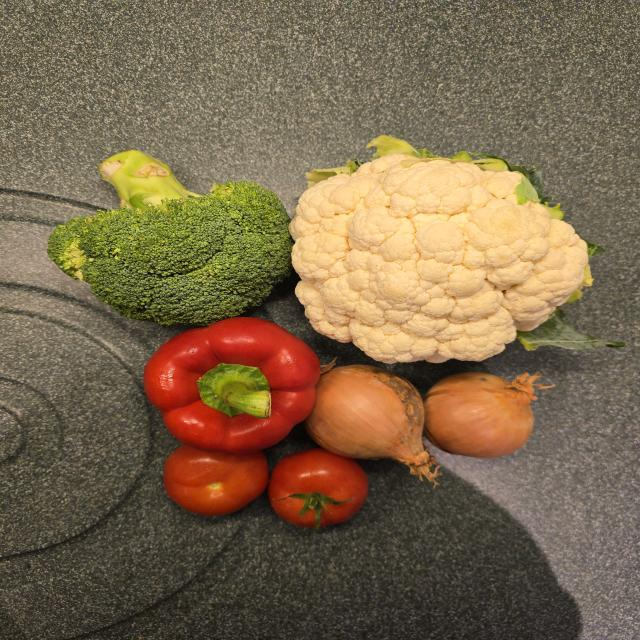Bell Pepper: (144, 317, 320, 453)
Broccoli: (48, 151, 287, 325)
Cauliflower: (290, 154, 592, 362)
Onion: (306, 365, 438, 482), (424, 373, 540, 457)
Tomato: (268, 448, 368, 528), (163, 444, 269, 515)
